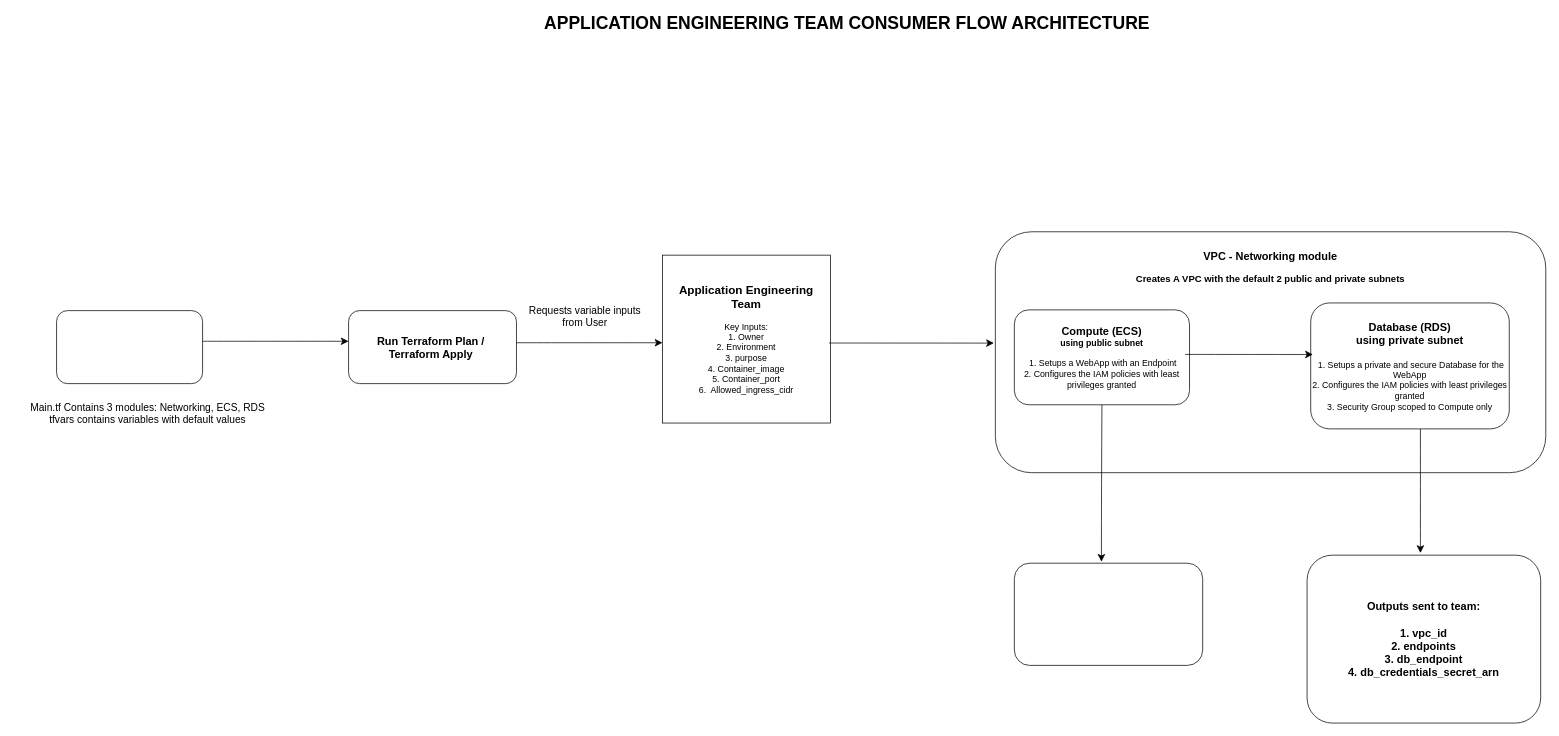
Some shapes in this 1559 by 736 pixel diagram are drawn without their labels. Here are the shapes that lost their labels. From the top down, the centre of each, then its label:
At point (129, 347): "Config files main.tf & tfvars".
At point (1108, 613): "End Users Connects via Public IP endpoint".
